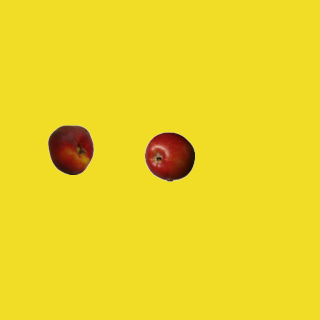Apple Braeburn: (144, 131, 194, 181)
Nectarine Flat: (45, 124, 95, 174)
